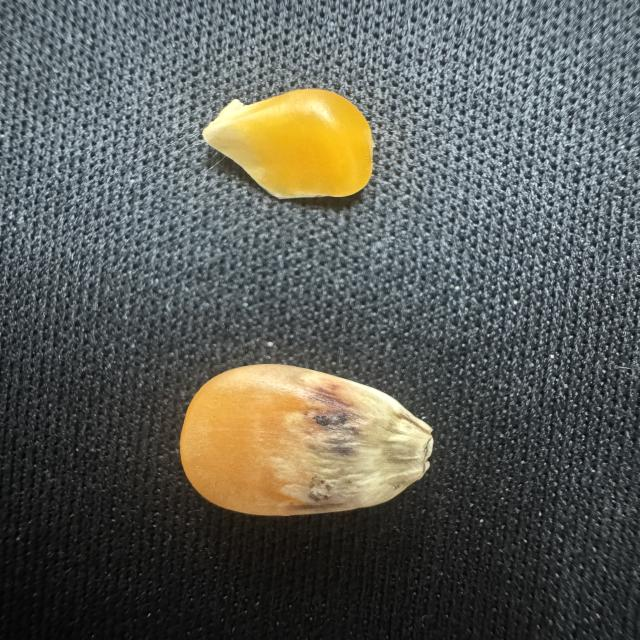Bad-Seed: (165, 359, 443, 526), (180, 81, 392, 212)
